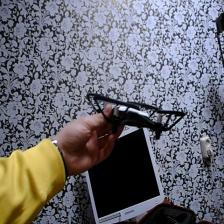drone: (80, 80, 188, 154)
